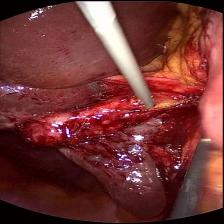Irrigator: (132, 82, 158, 110)
